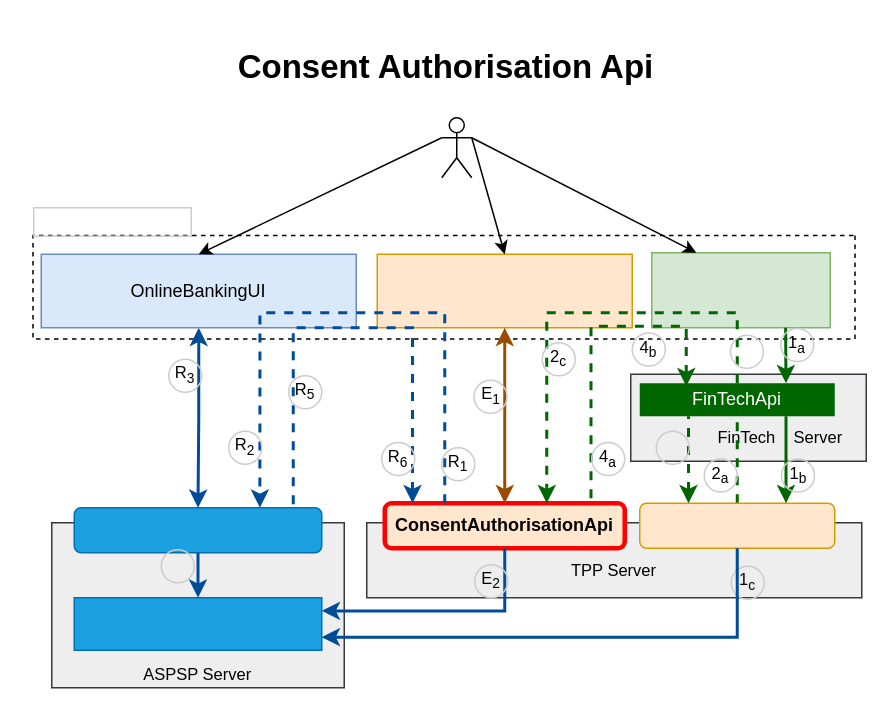
Image size: 893x714. Some labels were removed from this diagram. The centre of each missing label's shape, as x and y in pixels:
"2 b" belongs at point 746,351.
"4 c" belongs at point 672,447.
"Embedded ConsentUI RedirectInfoPage" belongs at point 504,290.
"FinTechUI" belongs at point 740,289.
"OnlineBankingAPI" belongs at point 197,529.
"OpenBankingApi" belongs at point 197,623.
"PSU" belongs at point 456,147.
"PsuUserAgent" belongs at point 111,221.
"R 4" belongs at point 177,565.
"TppBankingApi" belongs at point 736,525.
